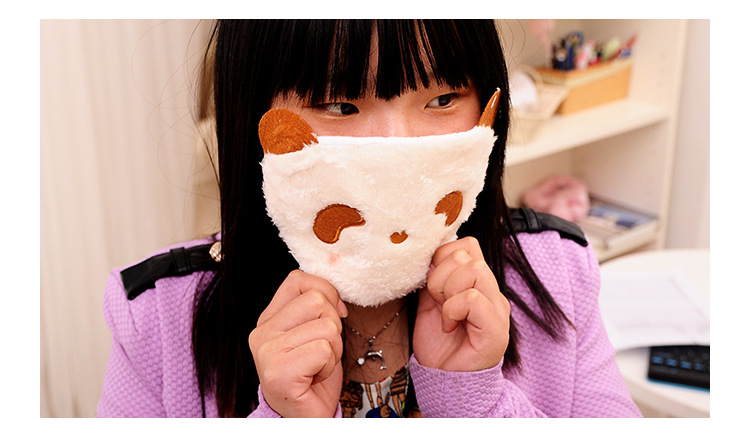face_mask: (260, 71, 495, 306)
